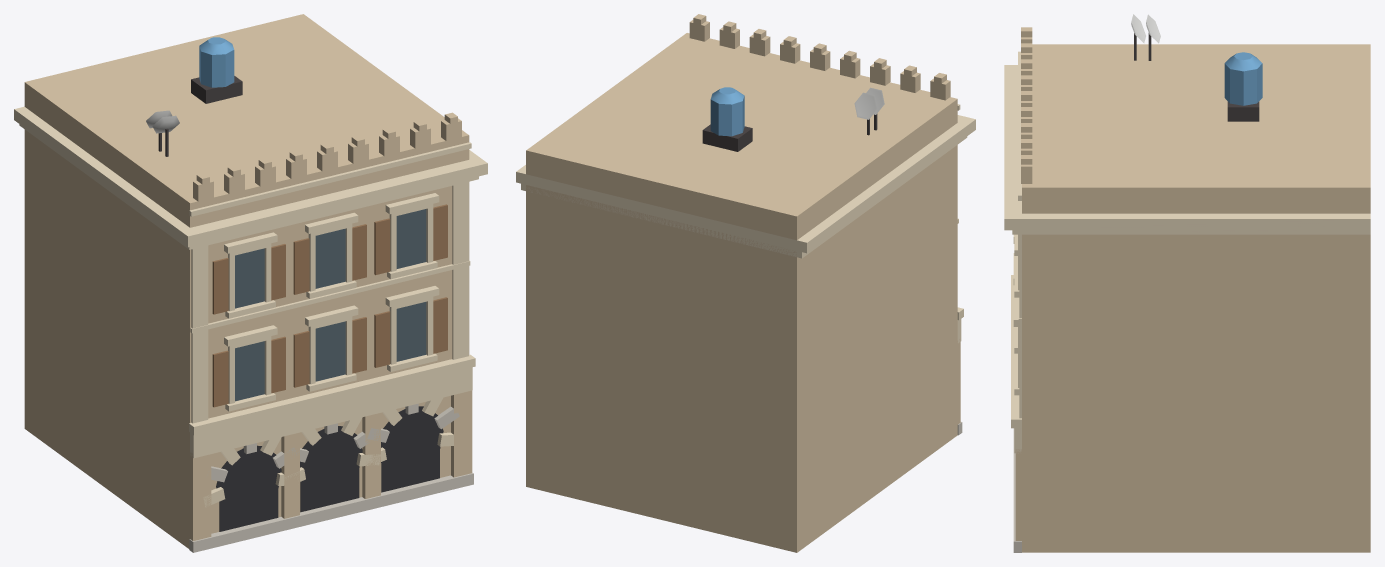
File: bb_building_gate.fbx
3 renders of one model, left to right at view 1: azimuth 30°, elevation 25°; view 2: azimuth 150°, elevation 25°; view 3: azimuth 270°, elevation 25°, orthographic. The views are drawn at different scales.
Parts seen in each view (by area): view 1: bb_building_gate; view 2: bb_building_gate; view 3: bb_building_gate.
Boxes of the visible parts, bbox=[...] form: bb_building_gate: bbox=[14, 14, 487, 552]; bb_building_gate: bbox=[516, 14, 975, 552]; bb_building_gate: bbox=[1004, 14, 1370, 552].
Bounding box in the file's own units: 11.5 × 14.65 × 11.55.
